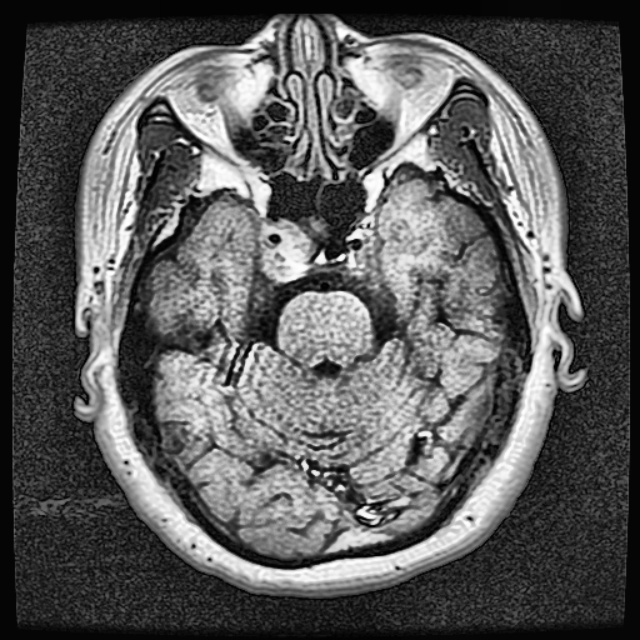Pituitary: (252, 220, 314, 278)
